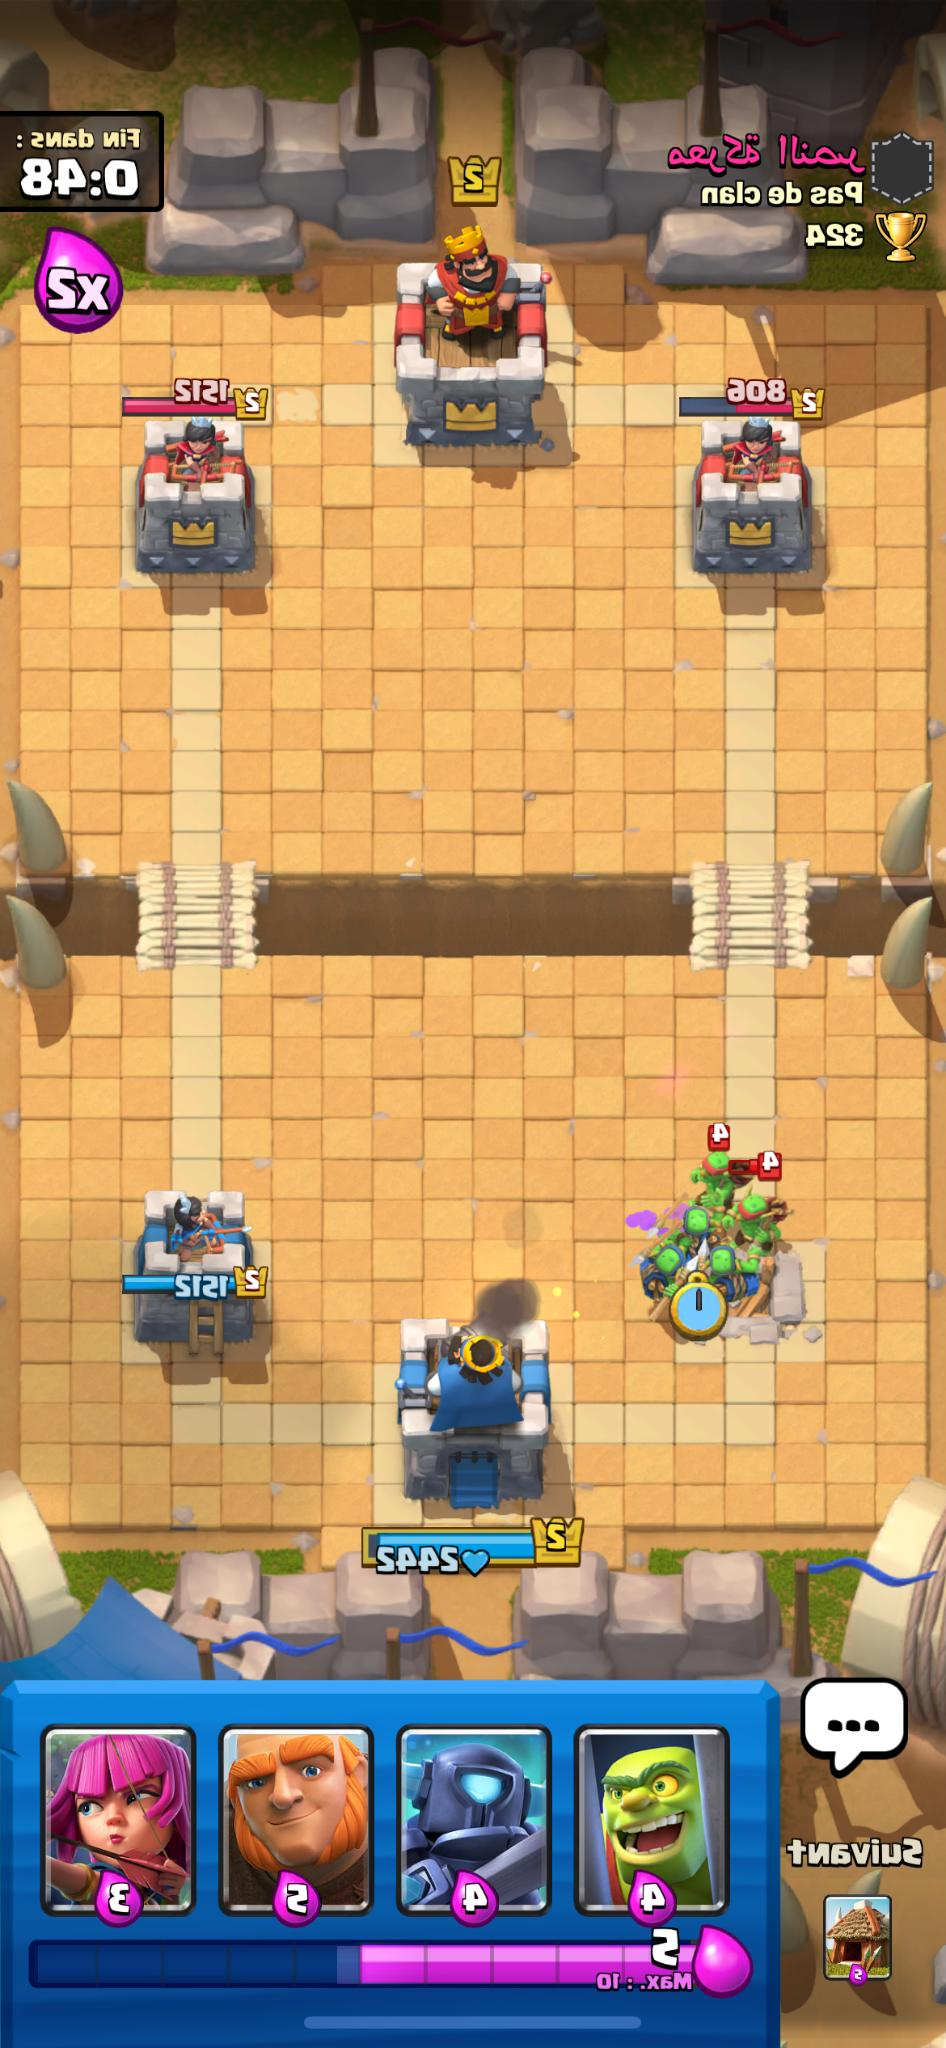gobelin_lances: (589, 1143, 835, 1356)
